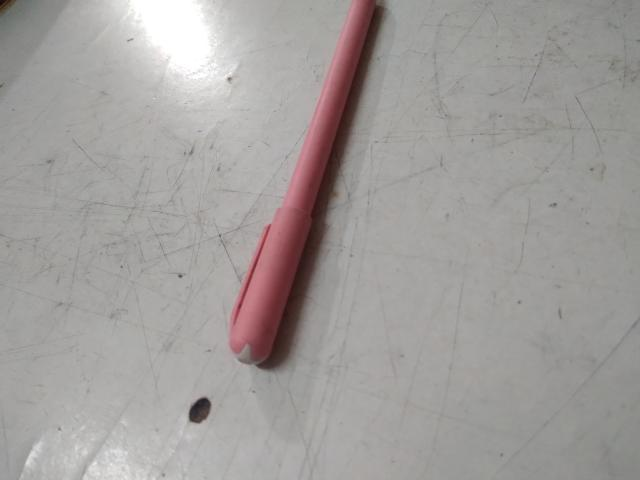PEN: (229, 0, 376, 380)
